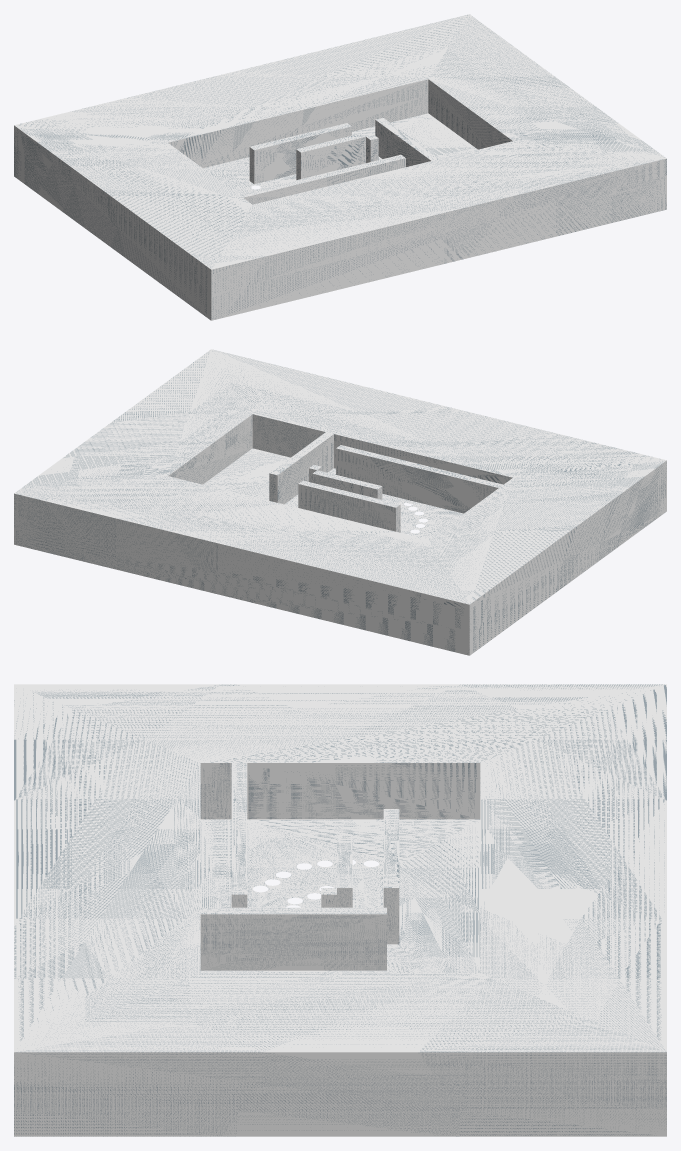
The model's file is Level 1.dae.
3 views of the same model, one above another, from view 1: azimuth 30°, elevation 25°; view 2: azimuth 150°, elevation 25°; view 3: azimuth 270°, elevation 25° (orthographic). The views are drawn at different scales.
Parts seen in each view (by area): view 1: SketchUp (×4); view 2: SketchUp (×4); view 3: SketchUp (×4).
Part boxes in pixels (<box>): SketchUp (×4): <box>14,14,666,320</box>; SketchUp (×4): <box>14,349,666,655</box>; SketchUp (×4): <box>14,684,666,1136</box>.
Bounding box in the file's own units: 1102 × 827 × 118.
